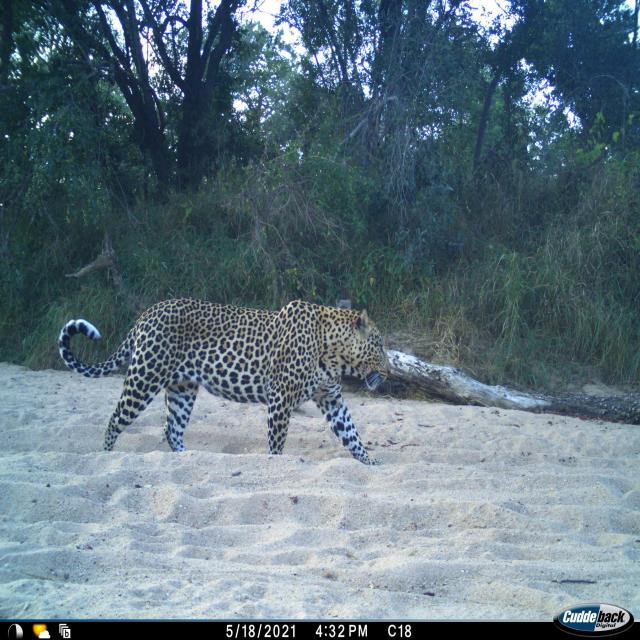Leopard: (54, 294, 408, 472)
